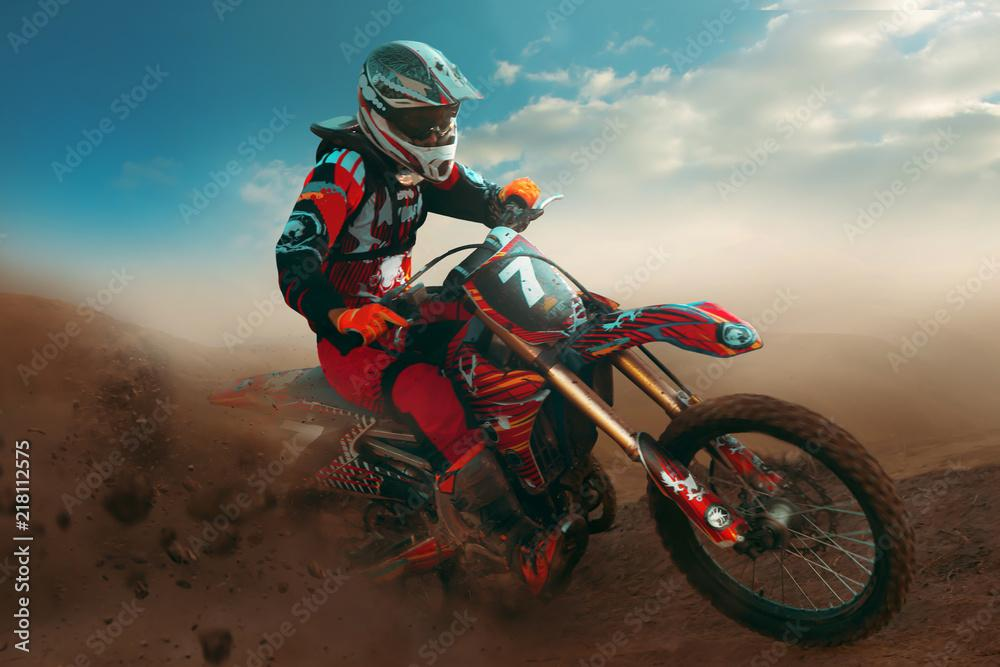helmet: (356, 39, 486, 185)
